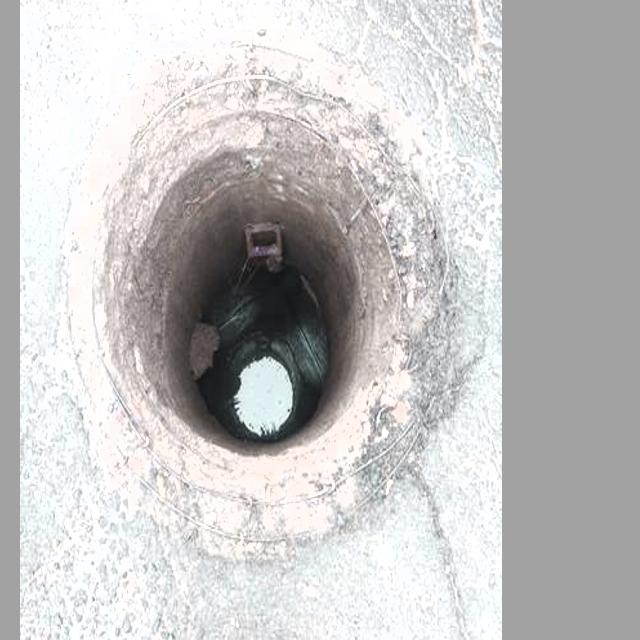lose: (66, 82, 452, 537)
